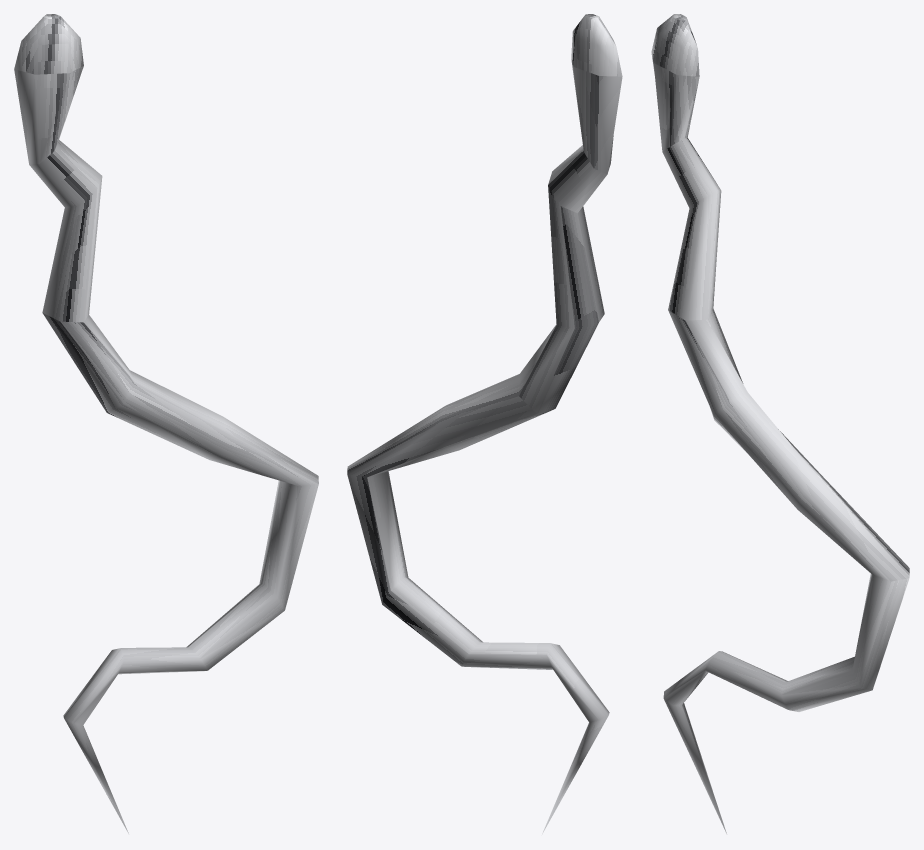
Rendered from snake_000004.obj.
3 renders of one model, left to right at view 1: azimuth 30°, elevation 25°; view 2: azimuth 150°, elevation 25°; view 3: azimuth 330°, elevation 25°, orthographic. The views are drawn at different scales.
Visible parts, largest first — view 1: Cylinder; view 2: Cylinder; view 3: Cylinder.
Part boxes in pixels (x1,y1,x2,y2): Cylinder: [14, 14, 318, 833]; Cylinder: [347, 14, 622, 834]; Cylinder: [651, 14, 909, 833].
Bounding box in the file's own units: 2.83 × 7.78 × 0.5974.
